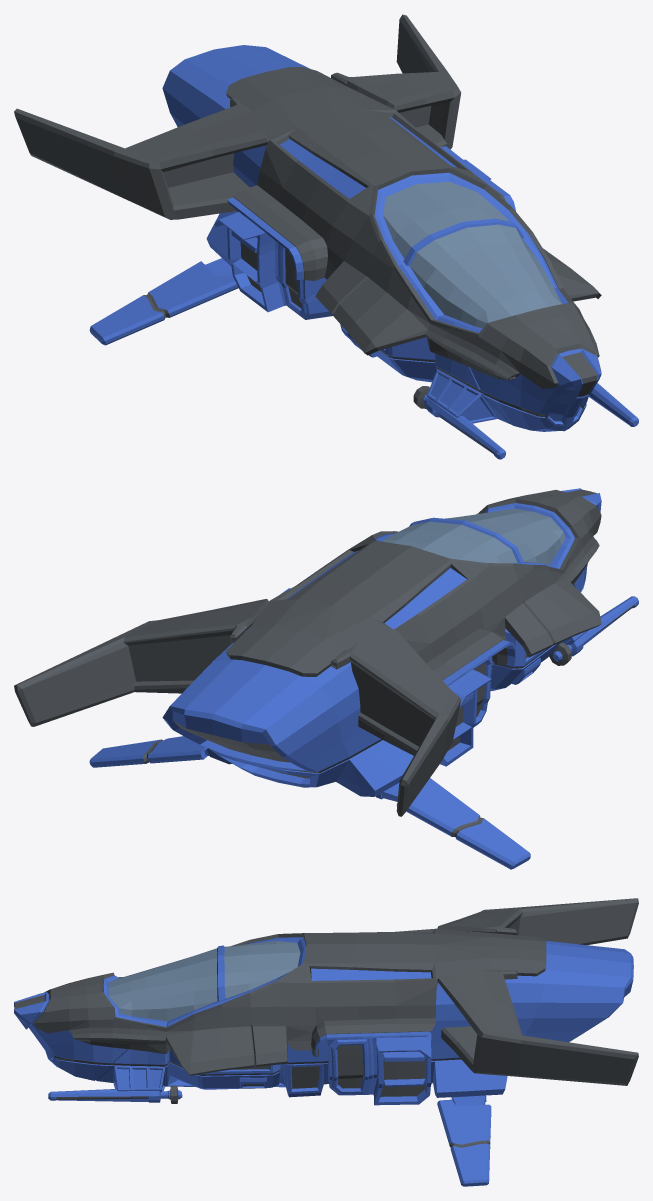
The model's file is Fighter_07_Blue.fbx.
The picture shows the model from 3 angles, top to bottom: view 1: azimuth 30°, elevation 25°; view 2: azimuth 150°, elevation 25°; view 3: azimuth 270°, elevation 25°; orthographic projection. The views are drawn at different scales.
Visible parts, largest first — view 1: Fighter_07_Blue; view 2: Fighter_07_Blue; view 3: Fighter_07_Blue.
Boxes of the visible parts, left/top/right/bottom form: Fighter_07_Blue: left=14, top=14, right=638, bottom=459; Fighter_07_Blue: left=14, top=488, right=638, bottom=869; Fighter_07_Blue: left=14, top=898, right=638, bottom=1186.
Bounding box in the file's own units: 1400 × 602 × 2152.
Materials: 3 (3 with a texture image).
